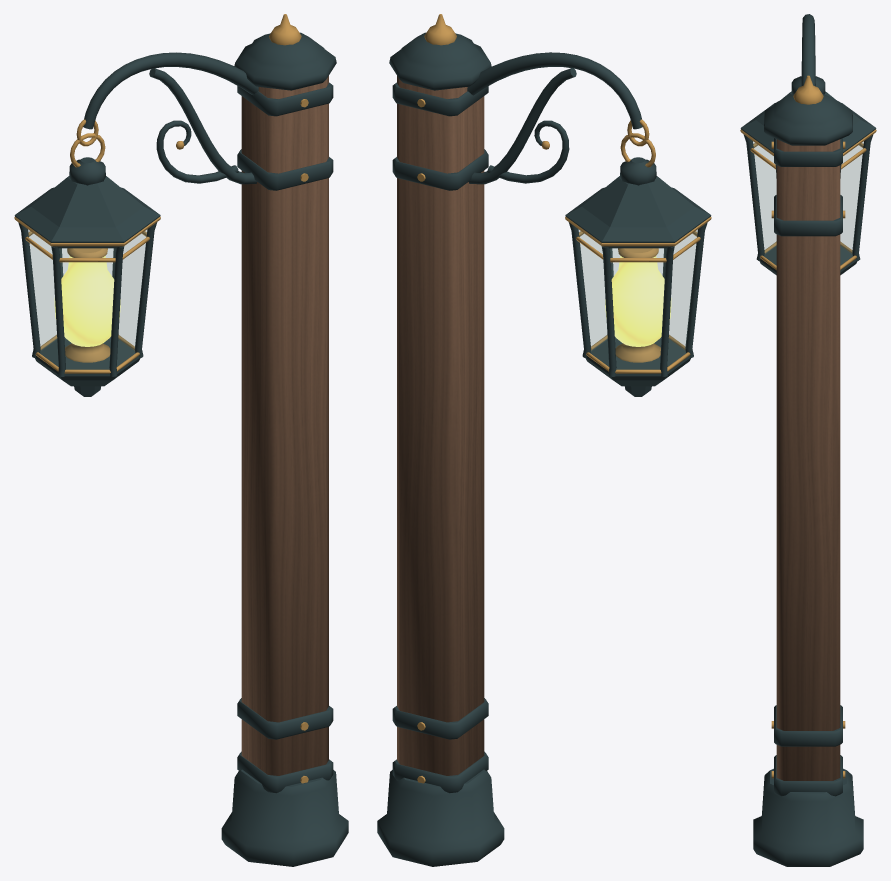
Rendered from pier_lantern.glb.
The picture shows the model from 3 angles, left to right: view 1: azimuth 30°, elevation 25°; view 2: azimuth 150°, elevation 25°; view 3: azimuth 270°, elevation 25°; orthographic projection. The views are drawn at different scales.
Visible parts, largest first — view 1: pier_lantern_Pier_Timber, pier_lantern_Iron, pier_lantern_Lantern_Glass, pier_lantern_Brass, pier_lantern_Mat_LanternGlow; view 2: pier_lantern_Pier_Timber, pier_lantern_Iron, pier_lantern_Lantern_Glass, pier_lantern_Brass, pier_lantern_Mat_LanternGlow; view 3: pier_lantern_Pier_Timber, pier_lantern_Iron, pier_lantern_Lantern_Glass, pier_lantern_Brass.
Part boxes in pixels (x1,y1,x2,y2): pier_lantern_Pier_Timber: (241, 76, 328, 775); pier_lantern_Iron: (14, 32, 348, 866); pier_lantern_Lantern_Glass: (28, 229, 147, 368); pier_lantern_Brass: (14, 14, 308, 783); pier_lantern_Mat_LanternGlow: (54, 256, 120, 346); pier_lantern_Pier_Timber: (397, 76, 484, 775); pier_lantern_Iron: (377, 32, 711, 866); pier_lantern_Lantern_Glass: (578, 229, 697, 368); pier_lantern_Brass: (417, 14, 711, 783); pier_lantern_Mat_LanternGlow: (605, 256, 671, 346); pier_lantern_Pier_Timber: (776, 139, 840, 780); pier_lantern_Iron: (740, 14, 876, 866); pier_lantern_Lantern_Glass: (753, 142, 863, 263); pier_lantern_Brass: (740, 75, 876, 778).
Size of the model in its own units: 1.3 by 3.39 by 0.546.
Materials: 5 (1 with a texture image).
